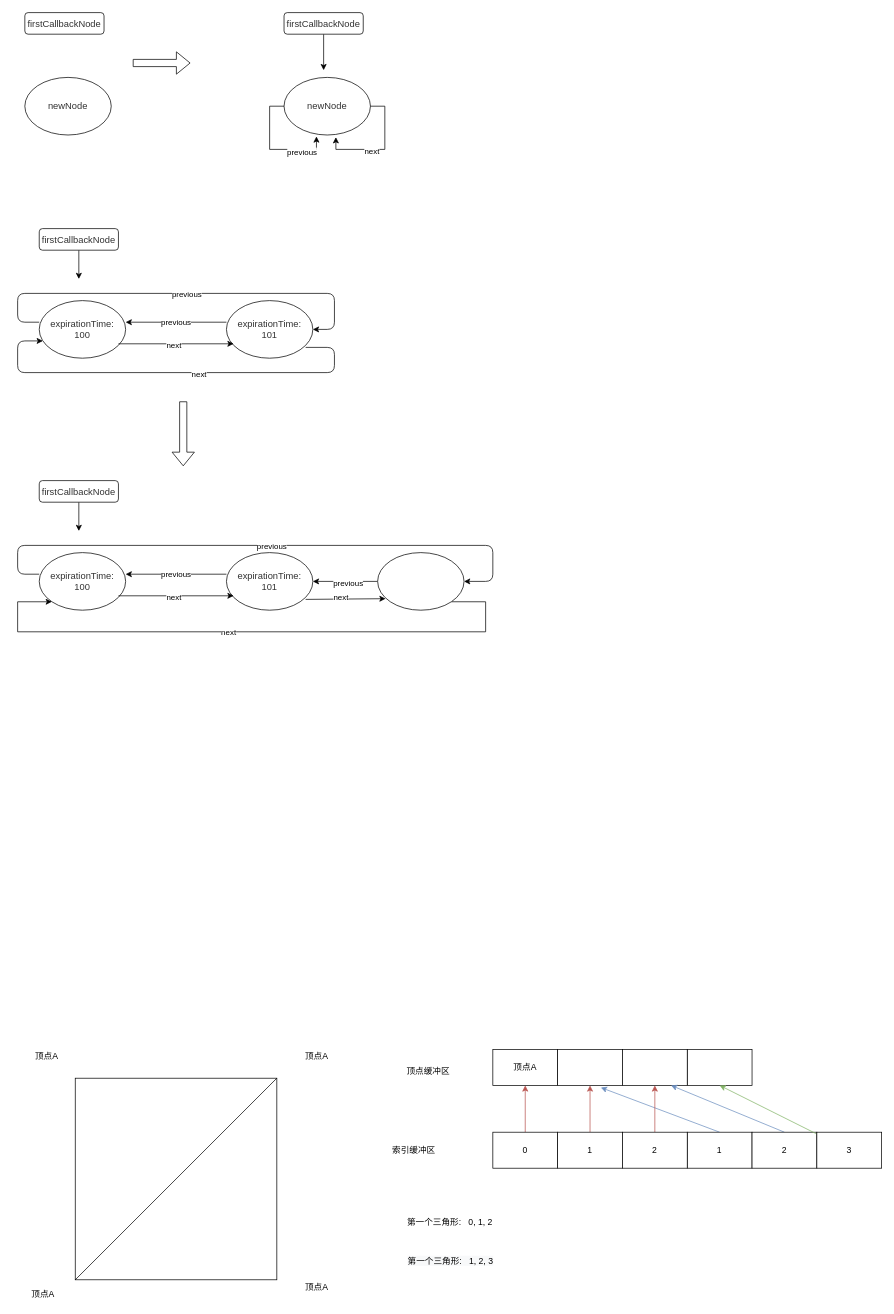
The diagram is 894 pixels wide and 1314 high, and some of its shapes have lost their labels. Here are the shapes that lost their labels. From the top down, the box of each, then its label:
(377, 552, 464, 610): expirationTime: 102
(557, 1049, 622, 1085): 顶点B
(622, 1049, 687, 1085): 顶点C
(687, 1049, 752, 1085): 顶点D
